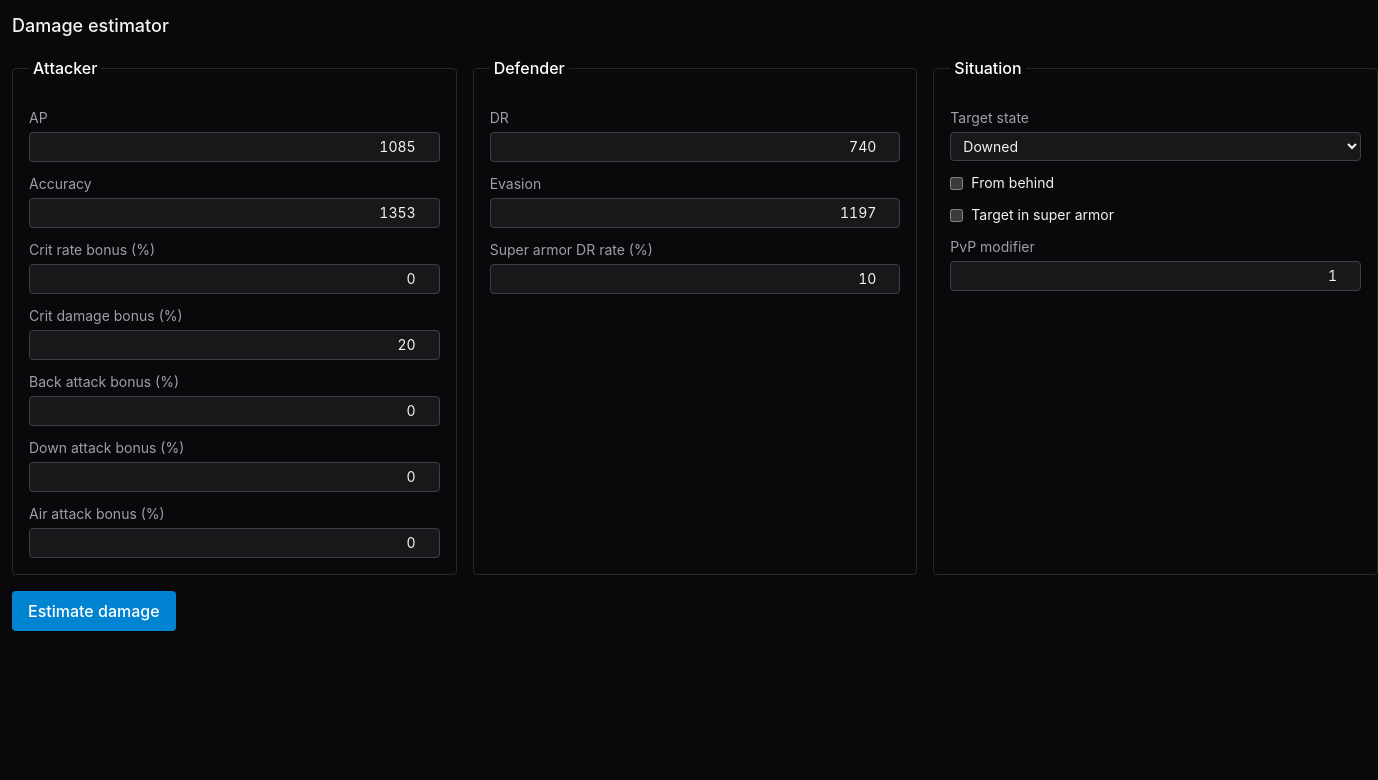
Test: DamageEstimator › shows the 422 problem detail inline
Click the button "Estimate damage" at [94, 611], box [12, 591, 176, 631]
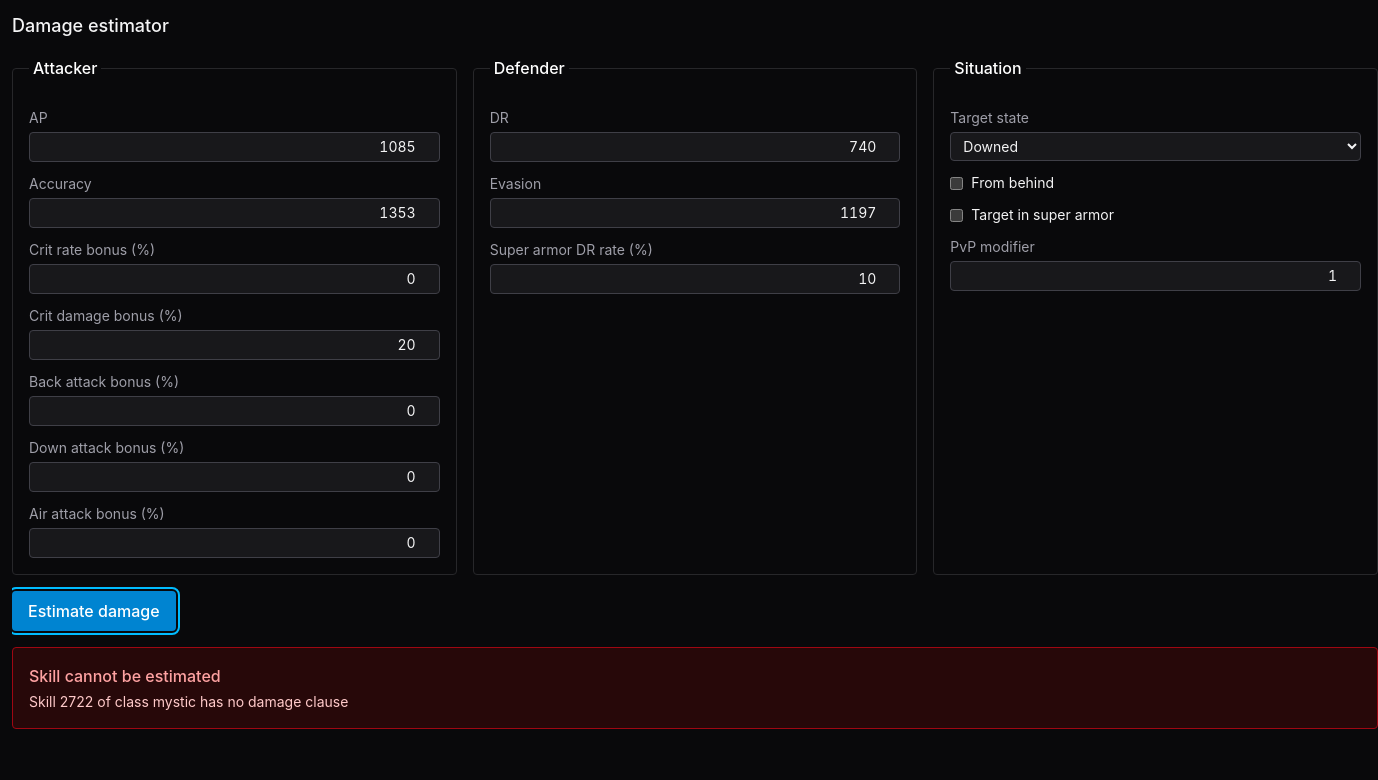
Check: the message shows "Skill cannot be estimated", box [29, 666, 221, 686]
Check: the message shows "Skill 2722 of class mystic has no damage clause", box [29, 693, 348, 710]
